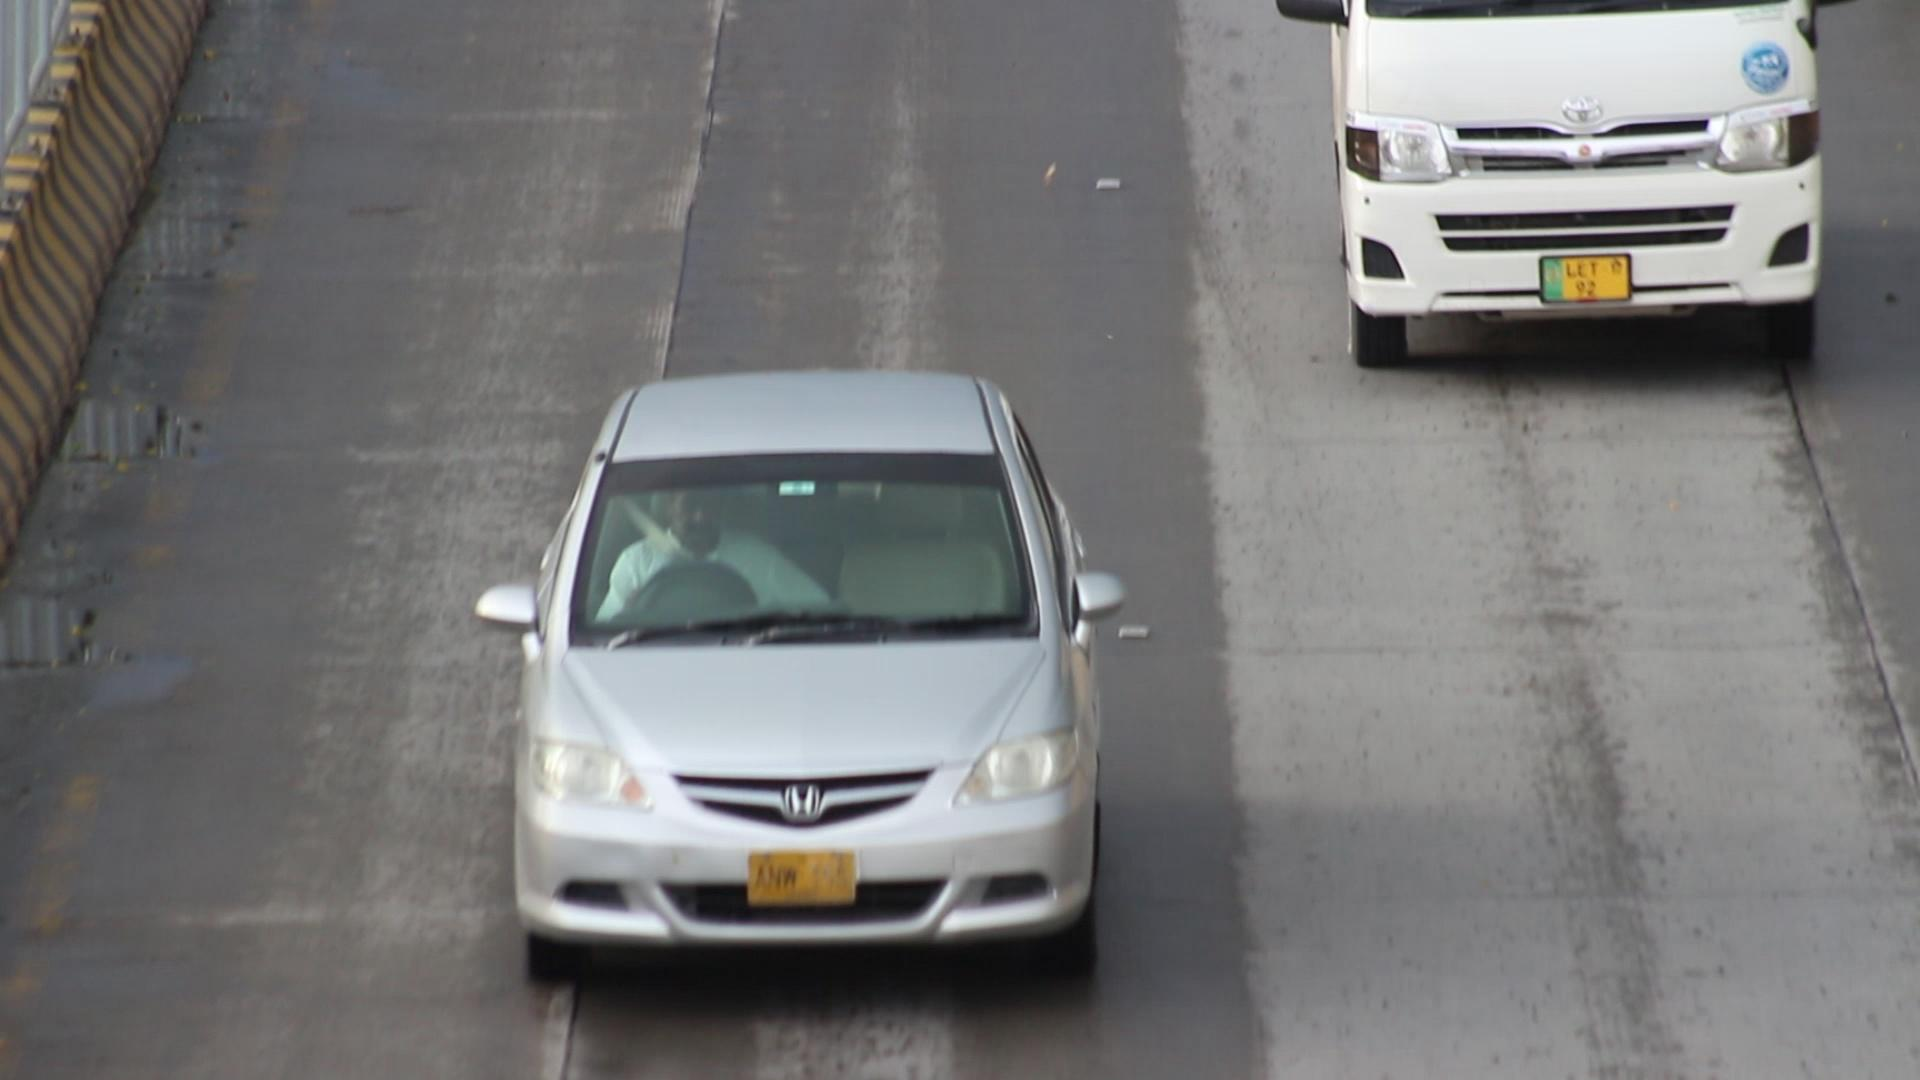windshield: (554, 450, 1071, 653)
